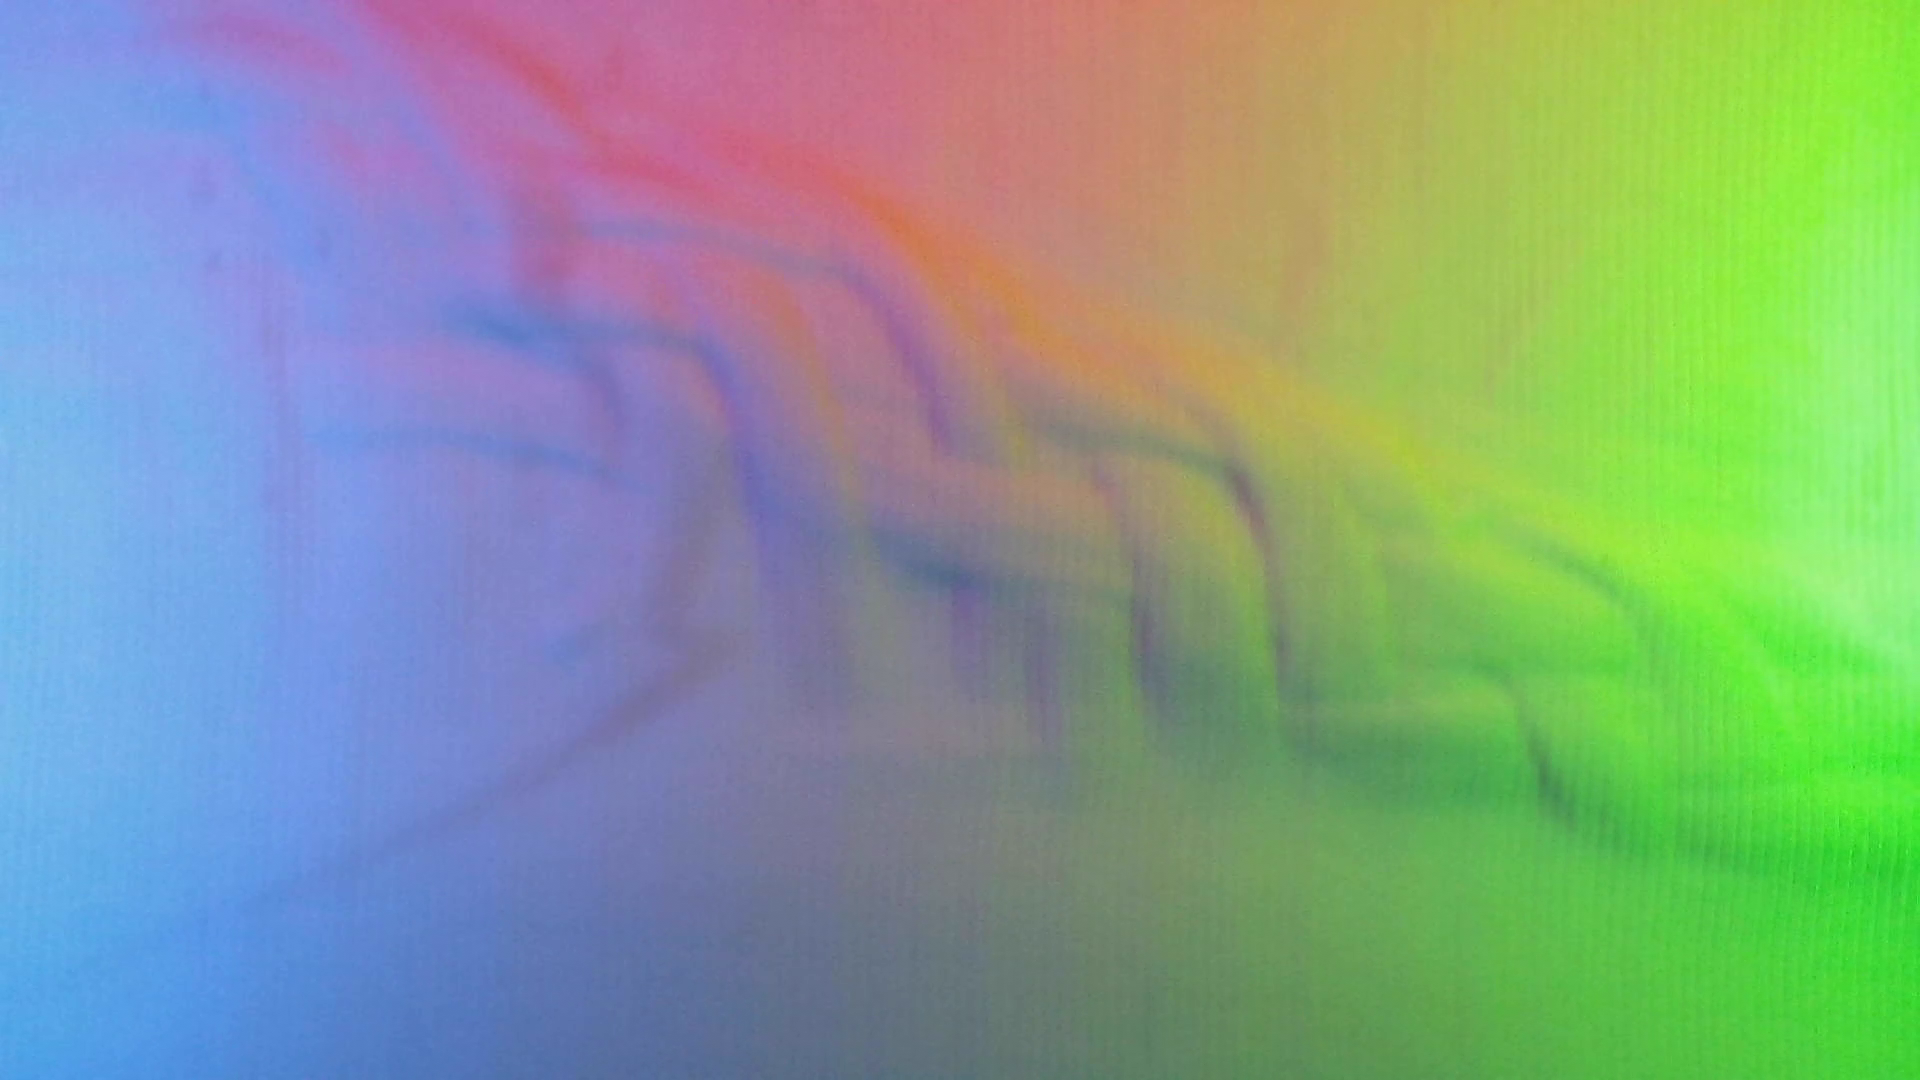D2: (375, 98, 1779, 669)
